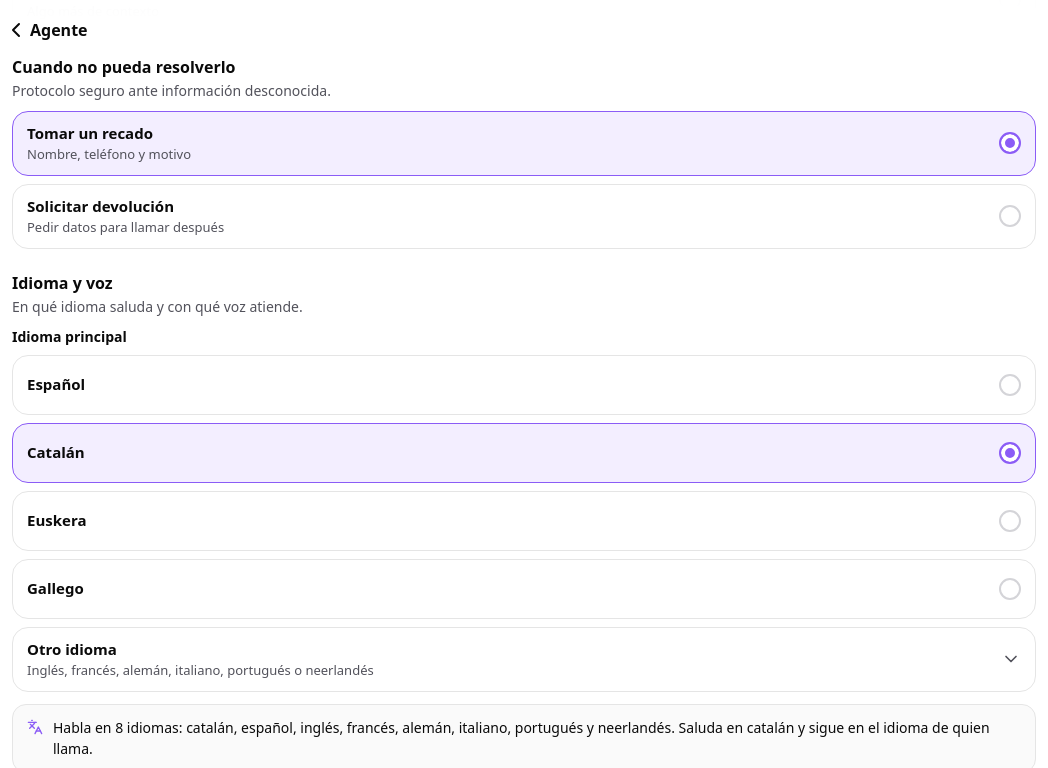
Test: ComportamientoMovil — idioma y voz › al cambiar el principal no enseña los avisos ni el saludo del anterior mientras llega su vista previa
(page scrolled)
Click the radio button labelled "Español" at [56, 384], box top-left (12, 355), bottom-right (1036, 415)
(page scrolled)
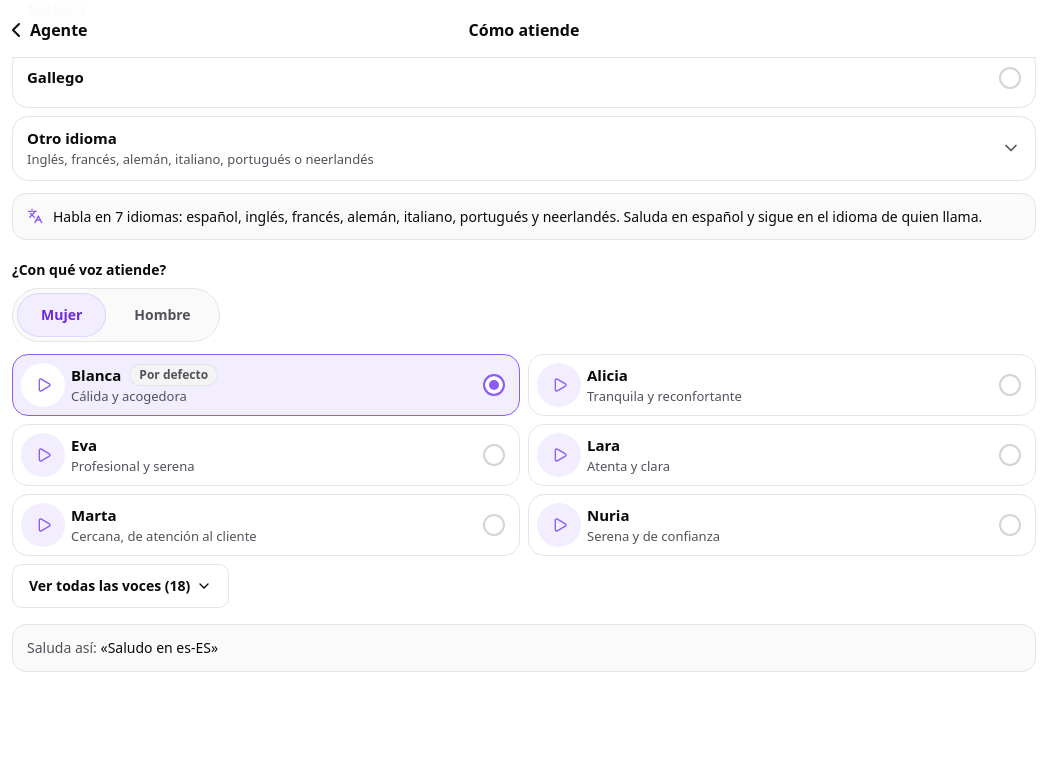
Expected: the text "Habla en 7 idiomas: español, inglés, francés, alemán, italiano, portugués y neerlandés. Saluda en español y sigue en el " is shown, top-left (53, 207), bottom-right (982, 226)
Expected: the text "«Saludo en es-ES»" is shown, top-left (100, 638), bottom-right (218, 657)
